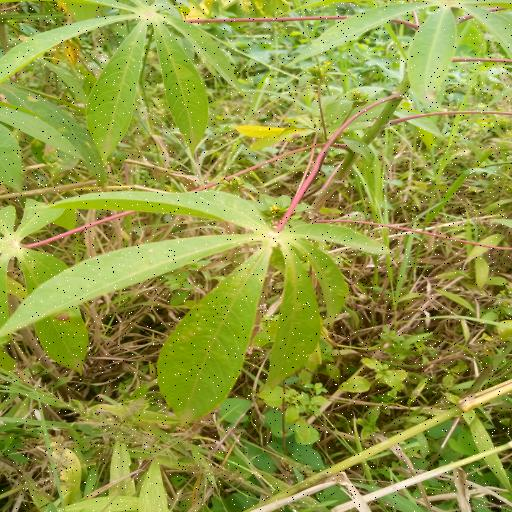Cassava_Mosaic: (5, 188, 397, 426), (0, 0, 249, 162), (289, 0, 512, 115)
